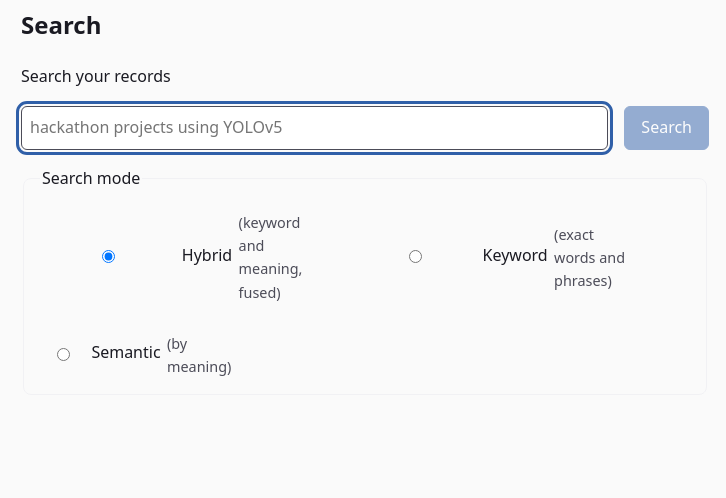
Test case: SearchPage (MVP-018; FS-004; NFR-043; ACCESSIBILITY 4.3/4.5) › surfaces API errors as an alert
Type "zebra" into the search field labelled "Search your records".
click(315, 128); type("zebra")  # box [21,106,608,150]
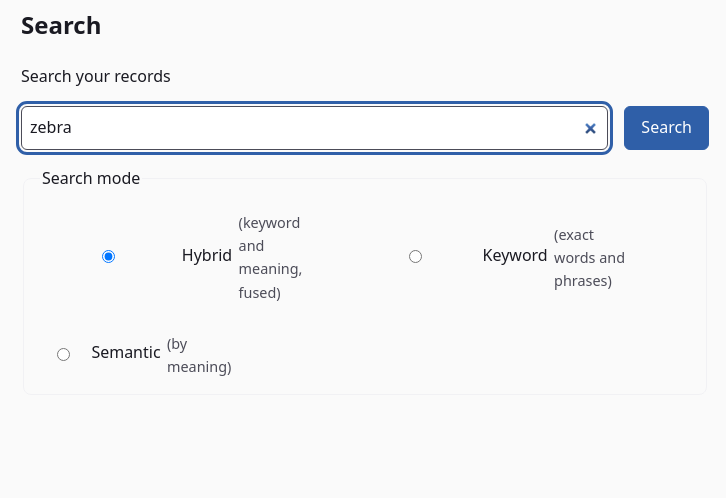
Click the button "Search".
click(667, 128)  # box [624,106,709,150]
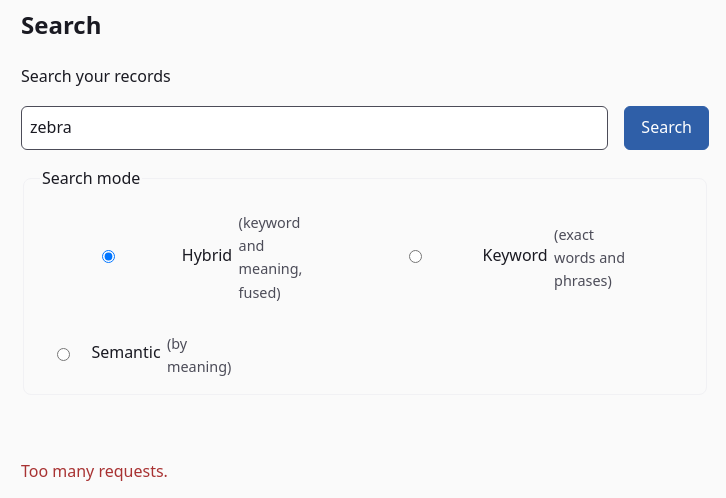
Expected: the message "Too many requests." is shown, [21,460,168,482]
